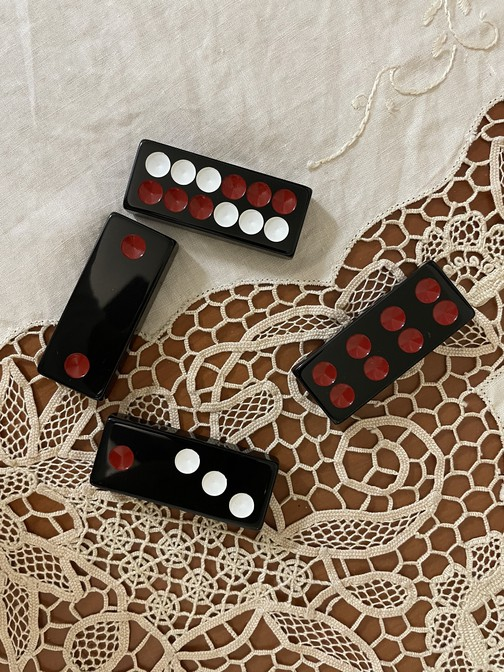earth: (37, 213, 180, 399)
goose: (90, 416, 279, 532)
heaven: (124, 140, 312, 260)
man: (293, 261, 476, 424)
